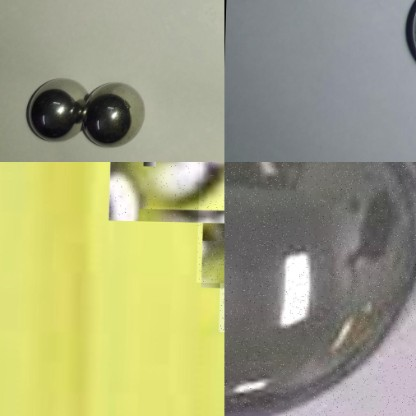ironball: (224, 161, 415, 415), (108, 161, 224, 221), (80, 80, 151, 145), (29, 72, 93, 141)
